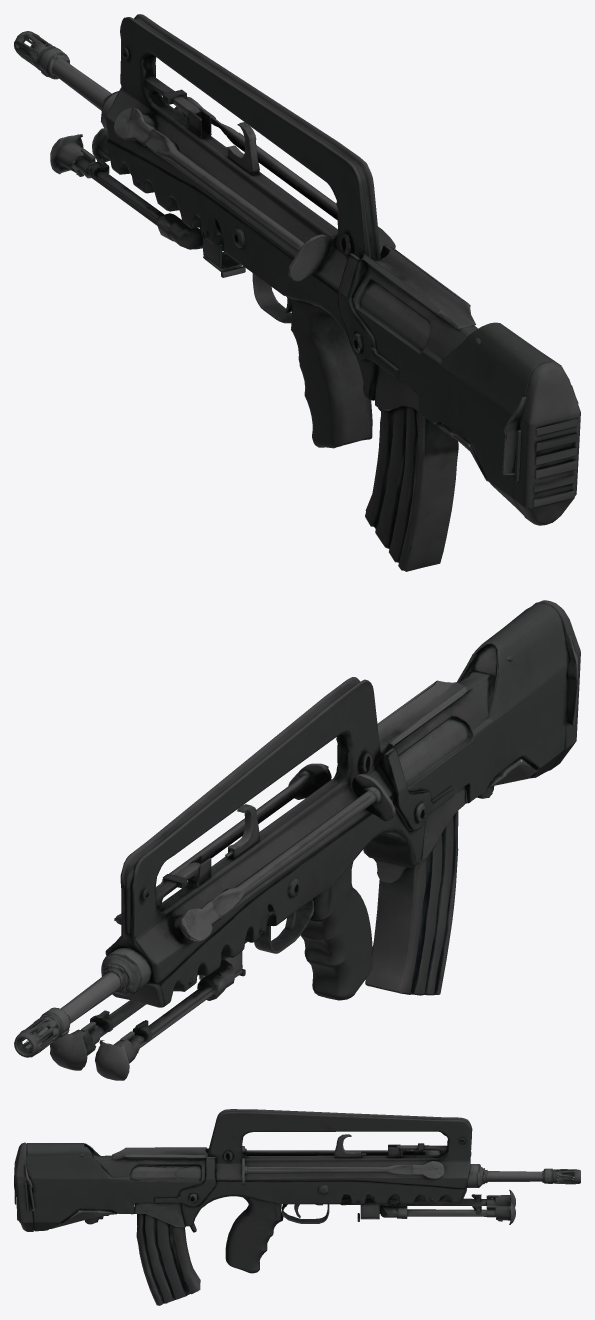
The model's file is famas.glb.
The picture shows the model from 3 angles, top to bottom: view 1: azimuth 30°, elevation 25°; view 2: azimuth 150°, elevation 25°; view 3: azimuth 270°, elevation 25°; orthographic projection. The views are drawn at different scales.
Parts seen in each view (by area): view 1: govde; view 2: govde; view 3: govde.
Boxes of the visible parts, x1=… form: govde: x1=14, y1=14, x2=580, y2=571; govde: x1=14, y1=600, x2=580, y2=1080; govde: x1=14, y1=1109, x2=580, y2=1305.
Bounding box in the file's own units: 0.0867 × 0.2807 × 0.757.
1 material, 1 textured.
